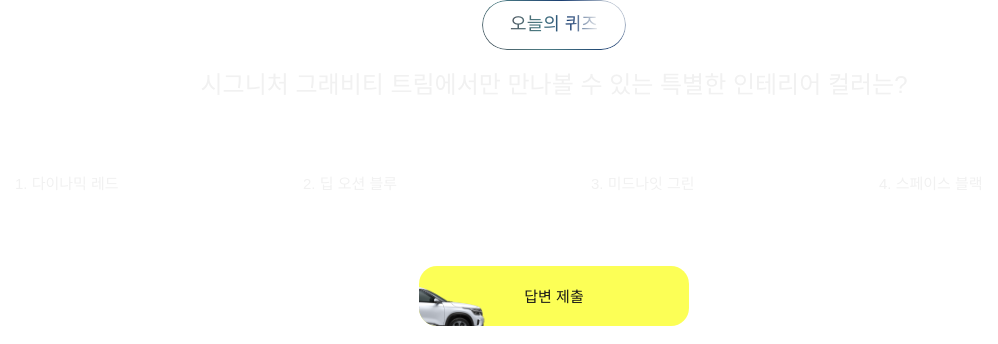
Test: FCFSQuizSection Component › 정답을 선택하지 않고 제출버튼을 누르면 하단에 정답을 선택하지 않았음을 알리는 토스트가 표시되어야 한다.
Click the button at (554, 296), box [419, 266, 689, 326]
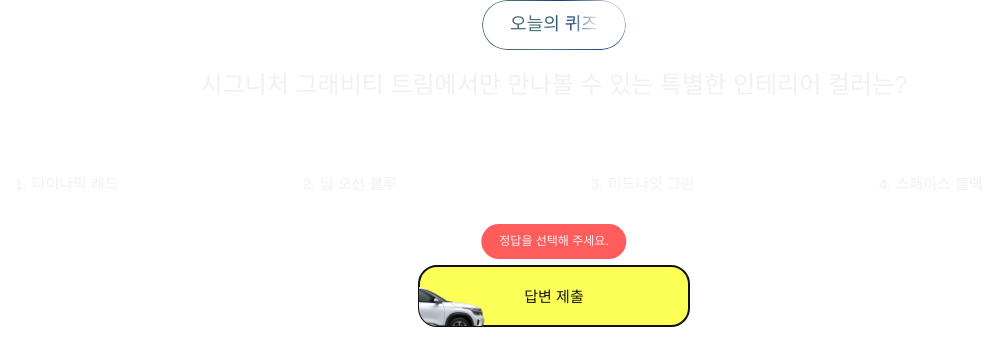
Now the text "정답을 선택해 주세요." is shown, box [481, 224, 627, 259]
